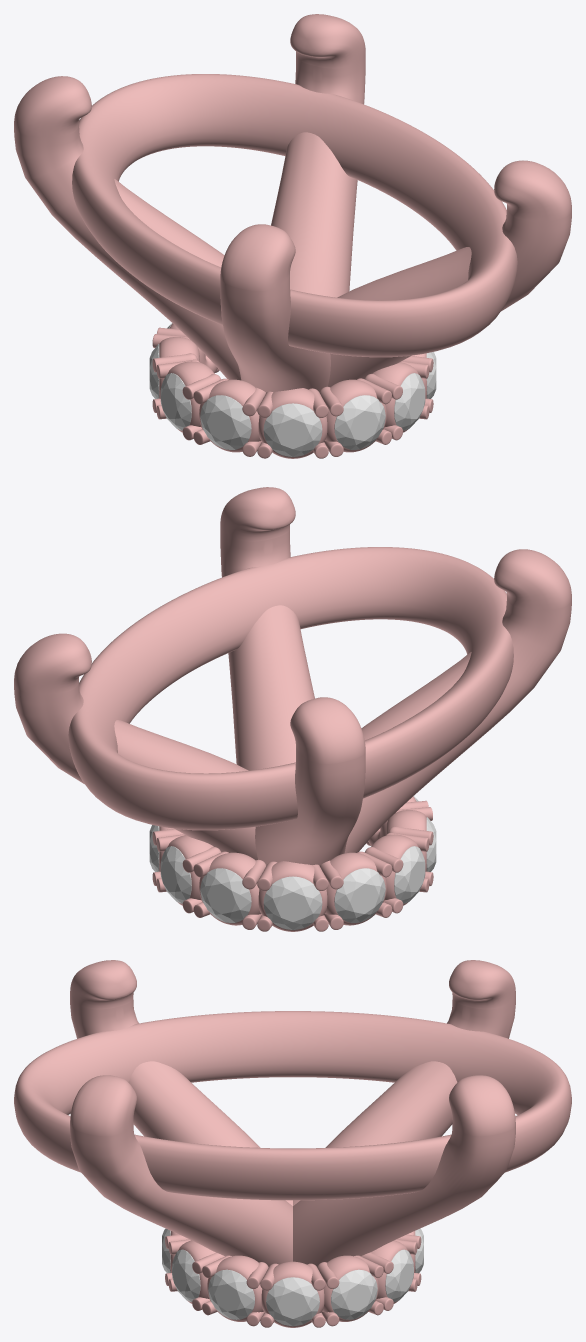
File: OVAL.glb
The picture shows the model from 3 angles, top to bottom: view 1: azimuth 30°, elevation 25°; view 2: azimuth 150°, elevation 25°; view 3: azimuth 270°, elevation 25°; orthographic projection. The views are drawn at different scales.
Visible parts, largest first — view 1: oval.002, hidden halo.006, hidden halo - diamonds.006; view 2: oval.002, hidden halo.006, hidden halo - diamonds.006; view 3: oval.002, hidden halo.006, hidden halo - diamonds.006.
Boxes of the visible parts, x1,y1,x2,y2 form: oval.002: (14,14,571,392); hidden halo.006: (152,323,433,458); hidden halo - diamonds.006: (149,323,436,456); oval.002: (14,487,571,865); hidden halo.006: (152,796,433,931); hidden halo - diamonds.006: (149,796,436,929); oval.002: (14,960,571,1266); hidden halo.006: (165,1231,421,1327); hidden halo - diamonds.006: (162,1228,423,1326).
Size of the model in its own units: 5.21 by 4.48 by 8.01.
